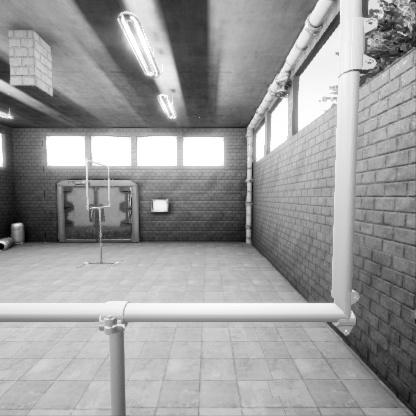gate: (85, 208, 110, 259)
